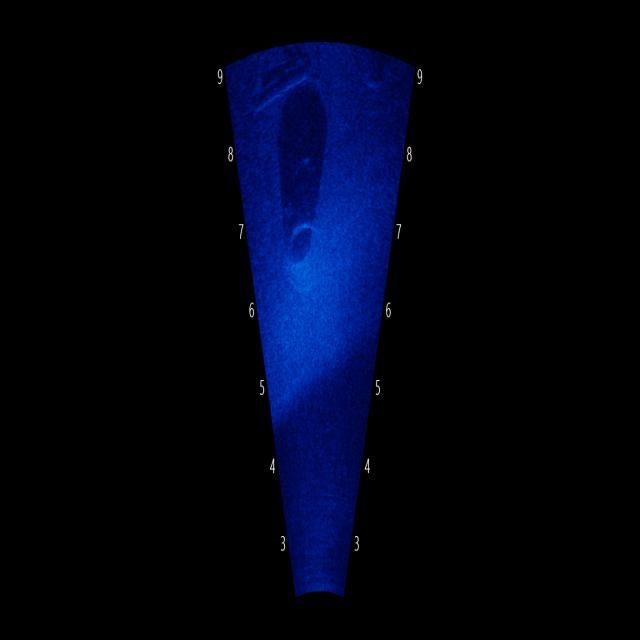circle: (267, 184, 334, 322)
